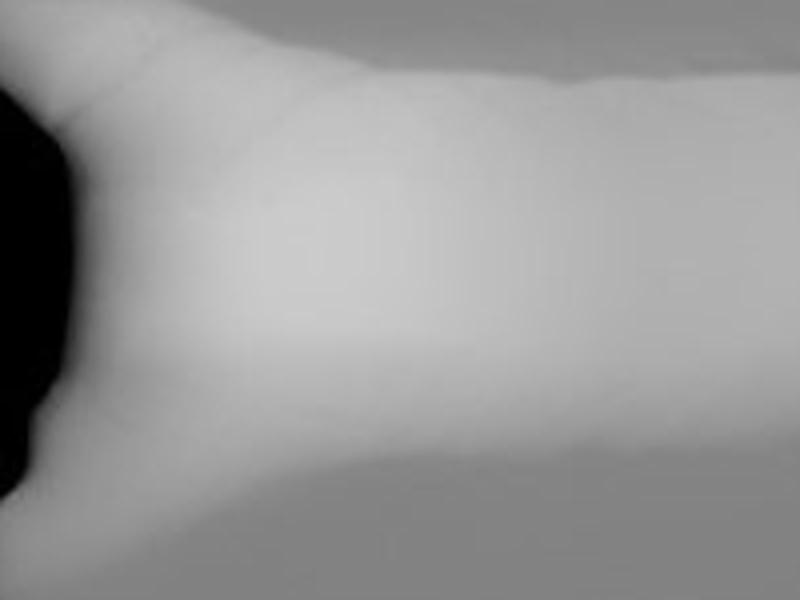defect: (1, 90, 80, 501)
